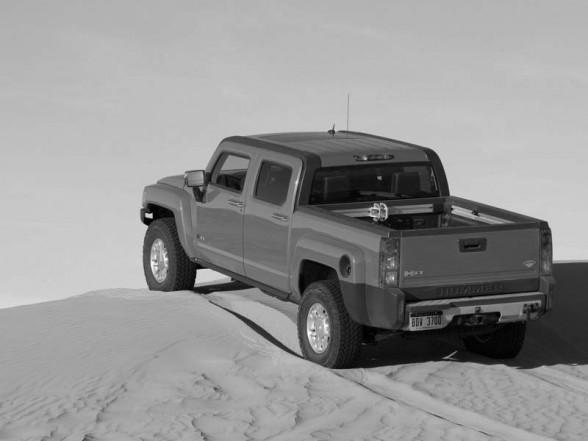car: (143, 91, 556, 370)
